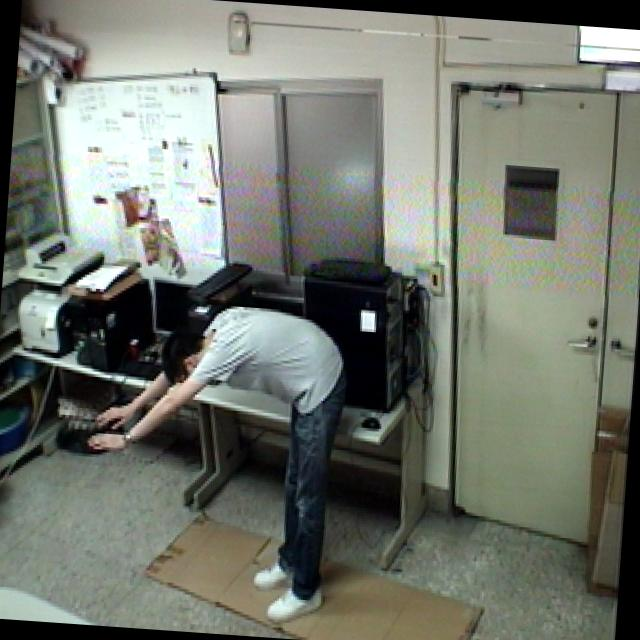bend: (68, 290, 360, 632)
